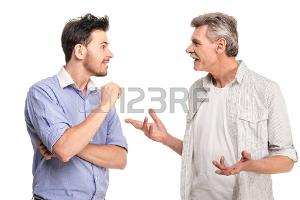person: (181, 12, 291, 142), (28, 13, 121, 148)
